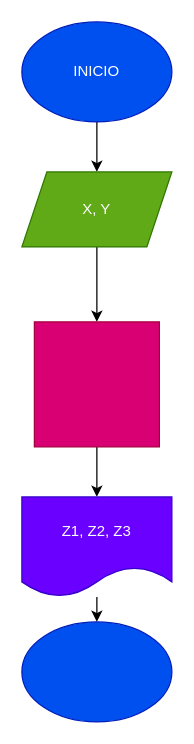
This 194x744 diagram has some shape labels left out. The centre of each missing label's shape, as x and y in pixels:
"FIN" belongs at (x=96, y=671).
"Z1 = X / Y Z2 = X % Y Z3 = X // Y" belongs at (x=96, y=384).
